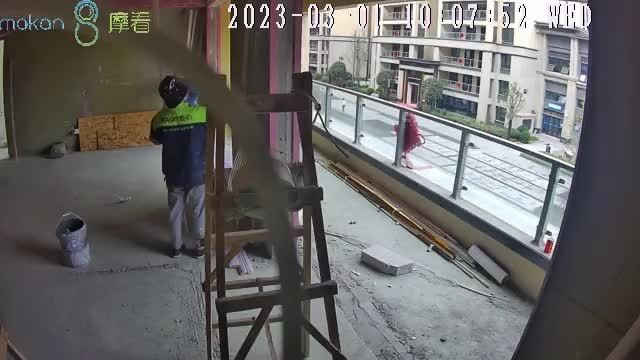people: (150, 75, 209, 258)
window: (301, 75, 575, 267)
